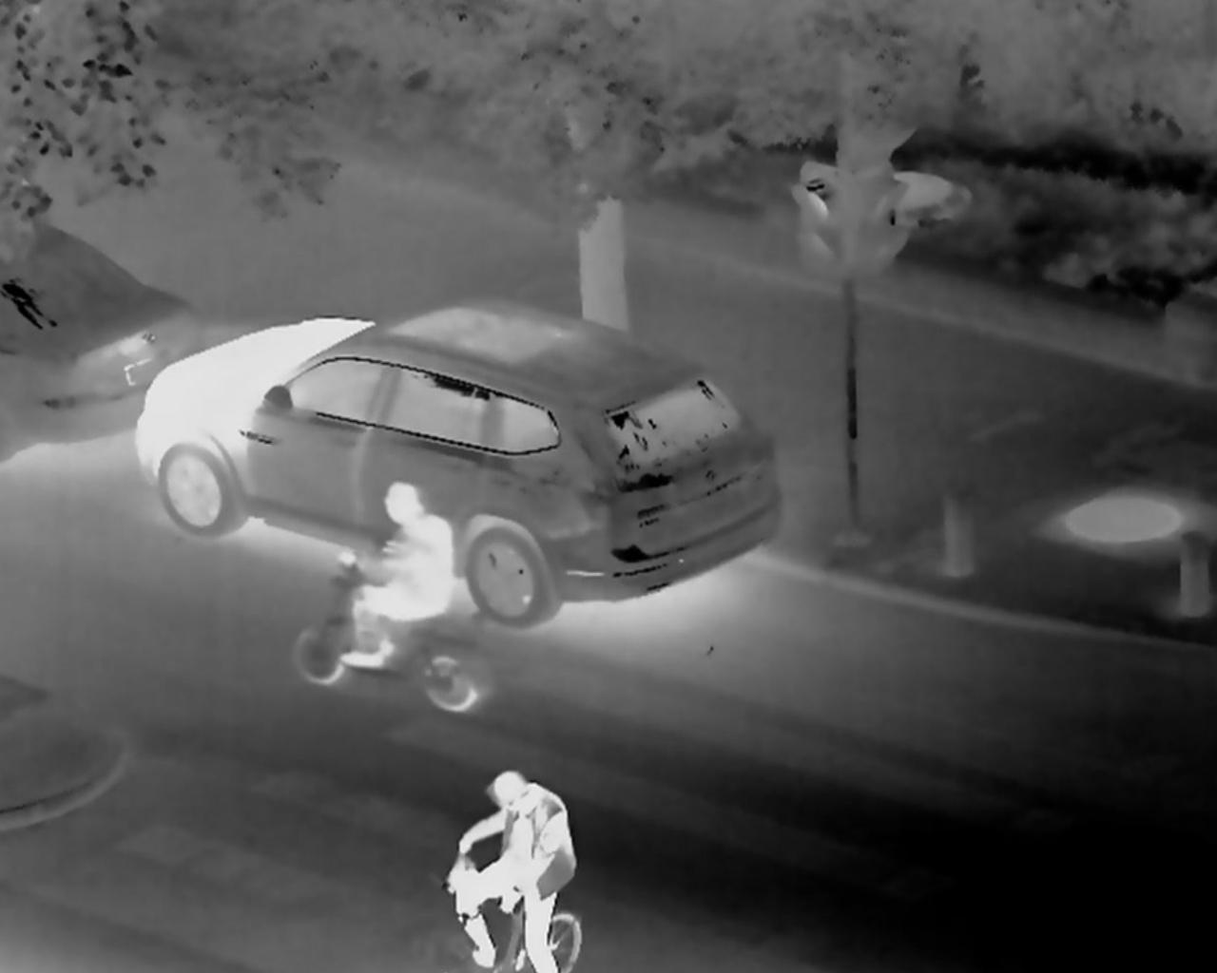person: (449, 762, 580, 973), (338, 474, 454, 663)
